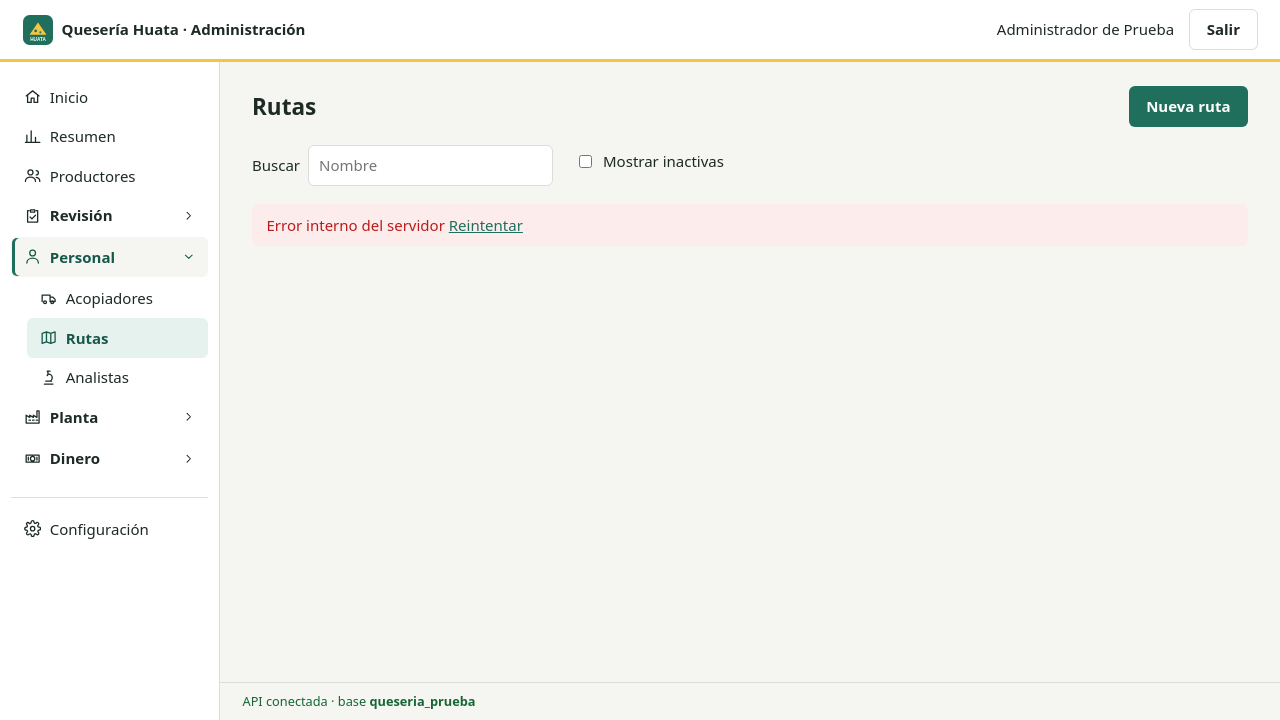
lista de rutas › sin rutas lo dice; si la API falla, permite reintentar
The width and height of the screenshot is (1280, 720).
Expected: the message shows "Error interno del servidor", [266,214,445,234]
Click the button "Reintentar" at x=486, y=225, box [449,214,523,236]
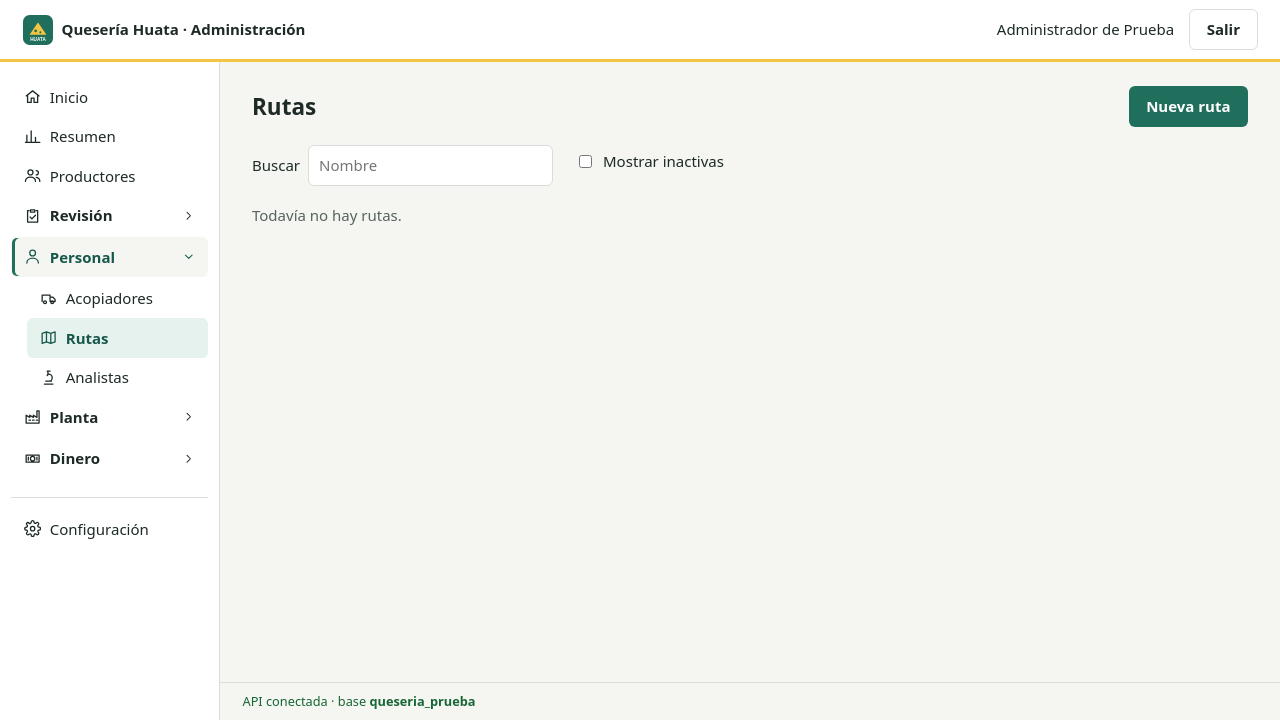
Expected: the text "Todavía no hay rutas." is shown, [252,204,402,224]
